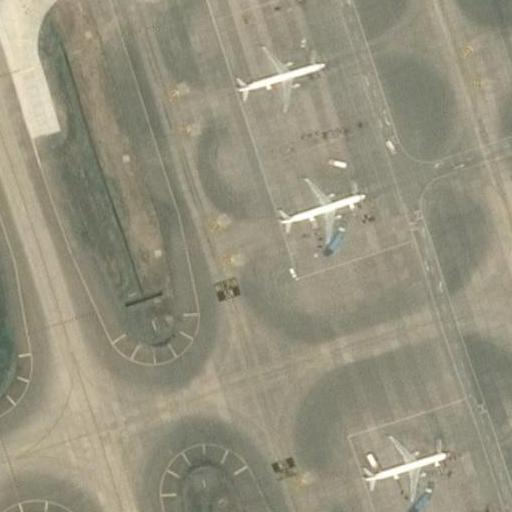Aircraft: (228, 44, 331, 115), (270, 178, 366, 252), (357, 435, 447, 505)
